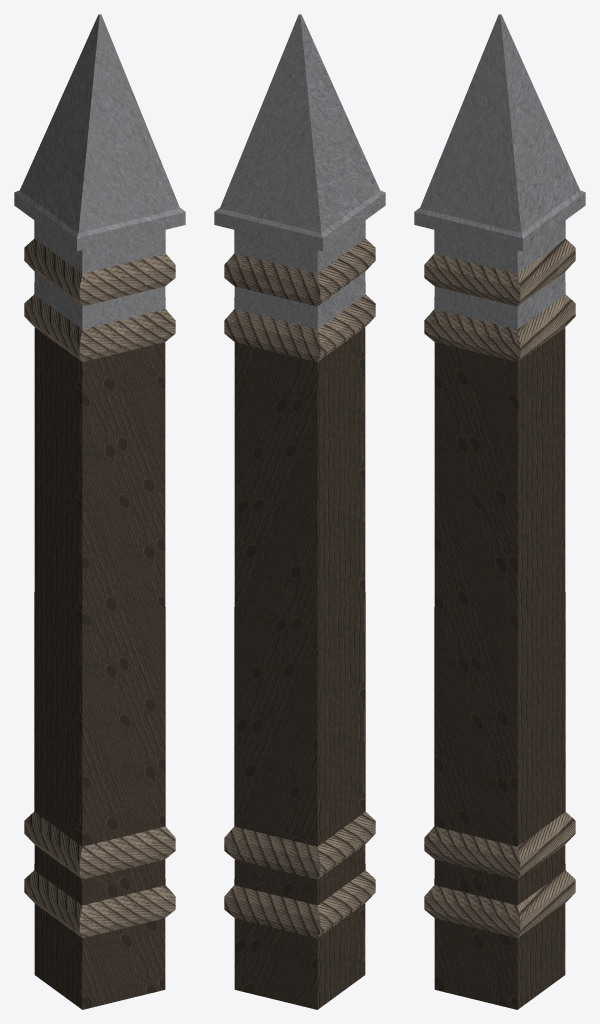
The model's file is arrowBallista.FBX.
3 renders of one model, left to right at view 1: azimuth 30°, elevation 25°; view 2: azimuth 150°, elevation 25°; view 3: azimuth 330°, elevation 25°, orthographic.
Visible parts, largest first — view 1: Box001; view 2: Box001; view 3: Box001.
Part boxes in pixels (left/top/right/bottom): Box001: left=14, top=14, right=185, bottom=1009; Box001: left=214, top=14, right=385, bottom=1009; Box001: left=414, top=14, right=585, bottom=1009.
Size of the model in its own units: 3.92 by 33.29 by 3.92.
Materials: 3 (3 with a texture image).
